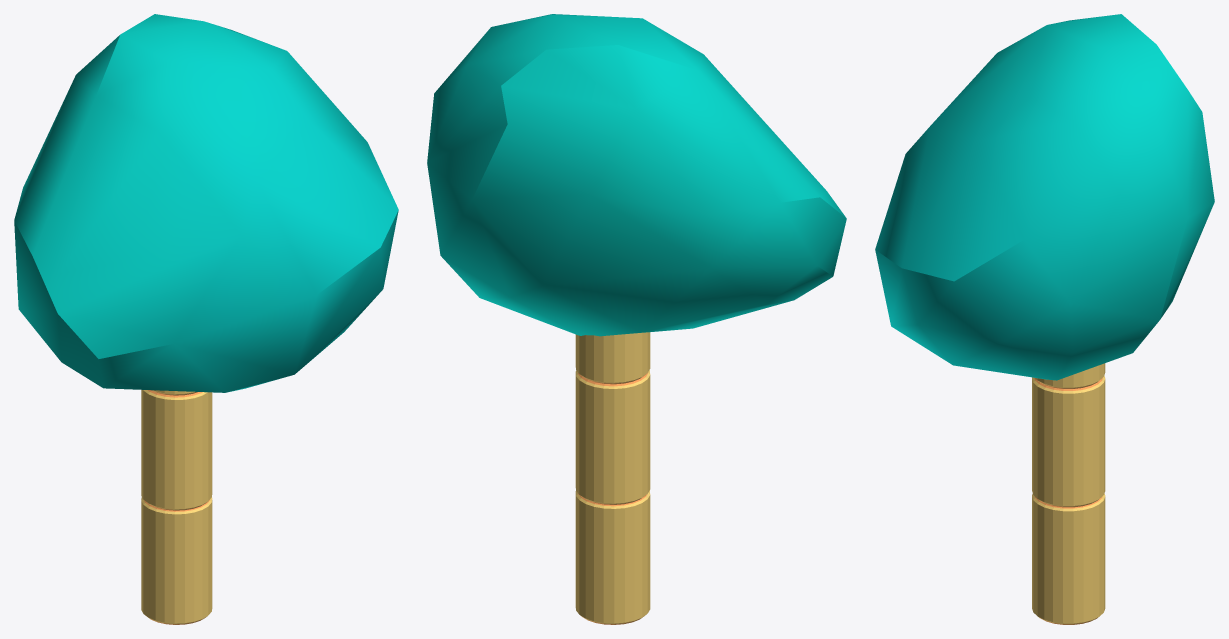
The model's file is Tree_1.fbx.
3 renders of one model, left to right at view 1: azimuth 30°, elevation 25°; view 2: azimuth 150°, elevation 25°; view 3: azimuth 270°, elevation 25°, orthographic. The views are drawn at different scales.
Visible parts, largest first — view 1: rock.072, Cylinder.183, Cylinder.184; view 2: rock.072, Cylinder.184, Cylinder.183, Cylinder.185; view 3: rock.072, Cylinder.184, Cylinder.183, Cylinder.185.
Part boxes in pixels (x1,y1,x2,y2): rock.072: (14,14,398,392); Cylinder.183: (141,497,212,624); Cylinder.184: (141,390,212,510); rock.072: (427,14,846,336); Cylinder.184: (575,370,650,504); Cylinder.183: (575,490,650,624); Cylinder.185: (575,332,650,384); rock.072: (875,14,1214,380); Cylinder.184: (1032,375,1105,507); Cylinder.183: (1032,493,1105,624); Cylinder.185: (1035,363,1105,388).
Size of the model in its own units: 329 by 507 by 267.
